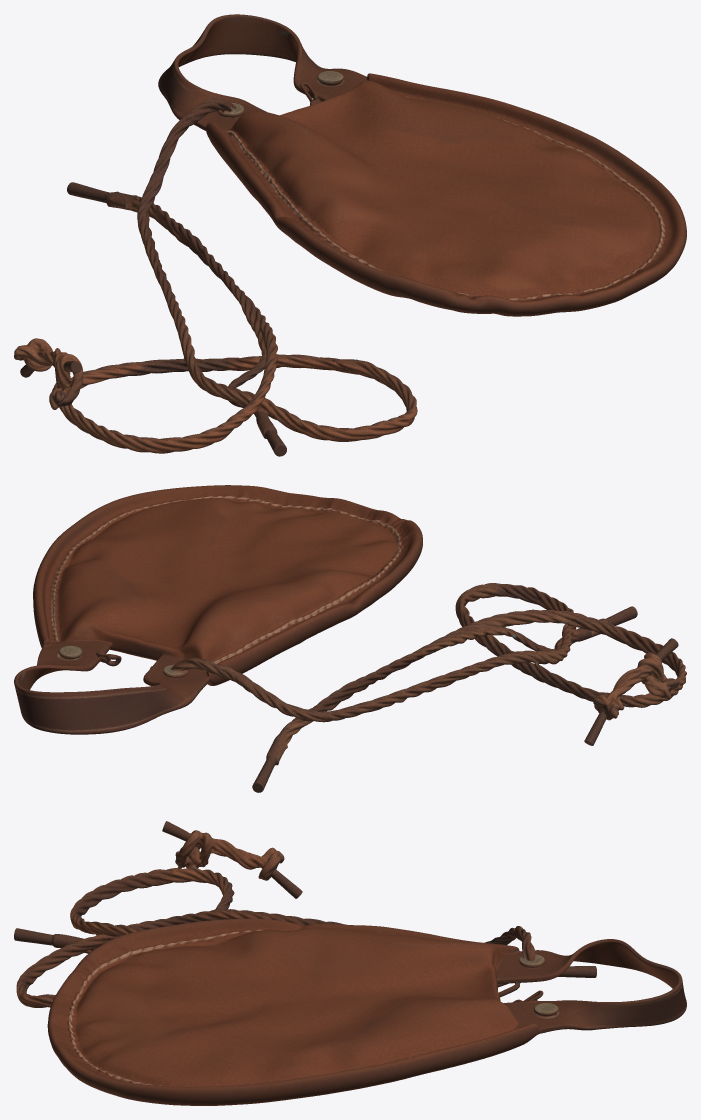
The model's file is Sling.glb.
3 views of the same model, one above another, from view 1: azimuth 30°, elevation 25°; view 2: azimuth 150°, elevation 25°; view 3: azimuth 270°, elevation 25° (orthographic). The views are drawn at different scales.
Bounding box in the file's own units: 1.9 × 0.3515 × 1.89.
Materials: 1 (1 with a texture image).
